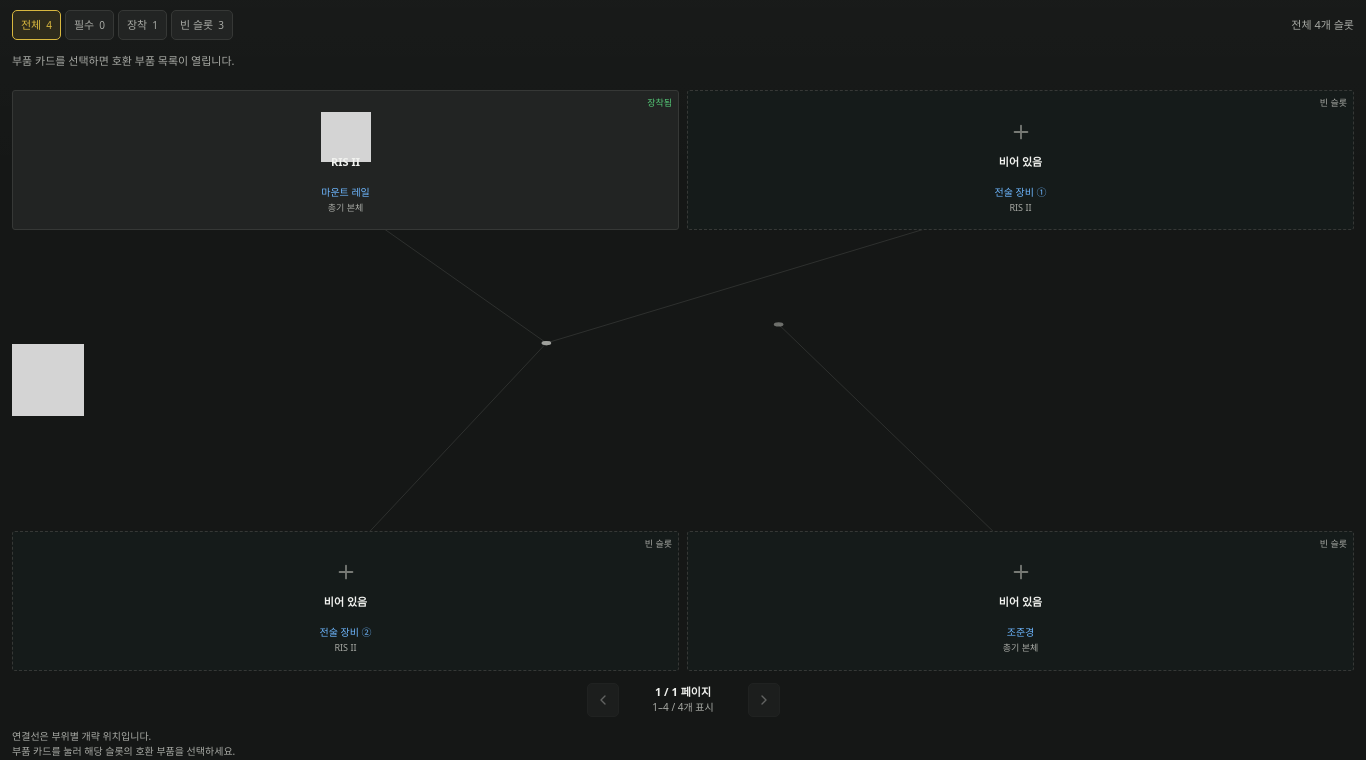
individual assembly slot presentation › keeps the central stage and both card rows mounted when a filter has no results
The image size is (1366, 760).
Check: the element with class "modding-assembly-selection-note" is shown, box [12,53,234,68]
Click the button "필수 0": (90, 25) [65,10,114,40]
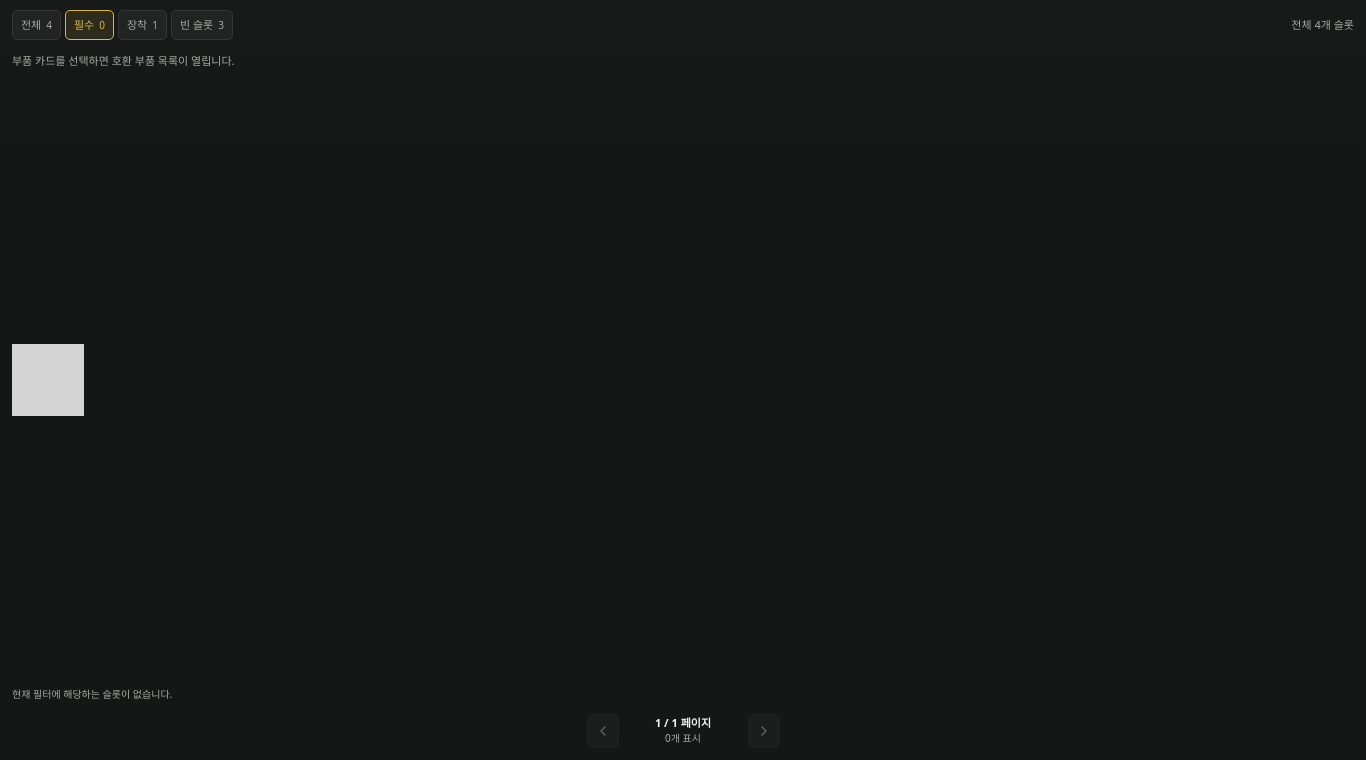
Check: the text "현재 필터에 해당하는 슬롯이 없습니다." is shown, box [12,686,172,700]
